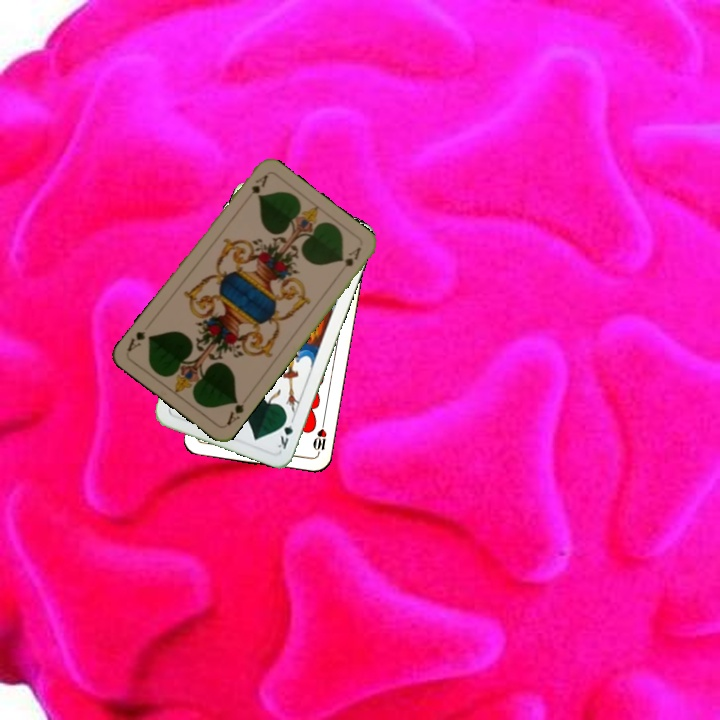GA: (240, 170, 270, 205), (222, 395, 246, 428)
GK: (274, 412, 297, 452)
H10: (309, 418, 329, 458)
